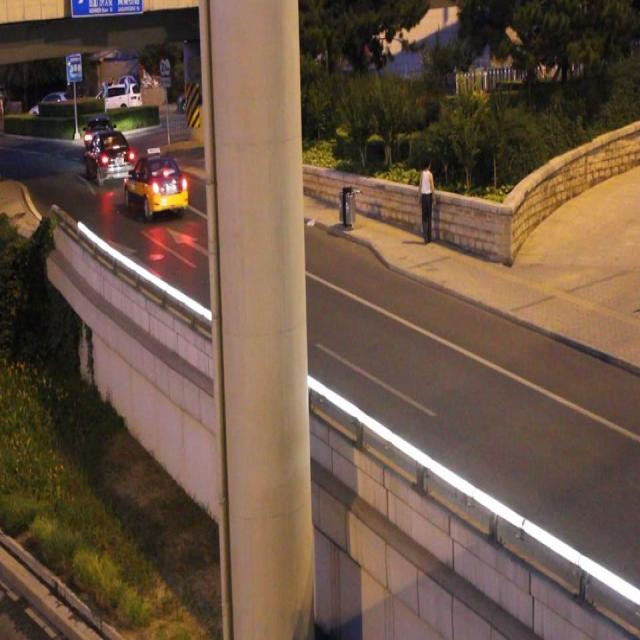car: (126, 154, 188, 213), (85, 132, 134, 183), (84, 120, 113, 152)
